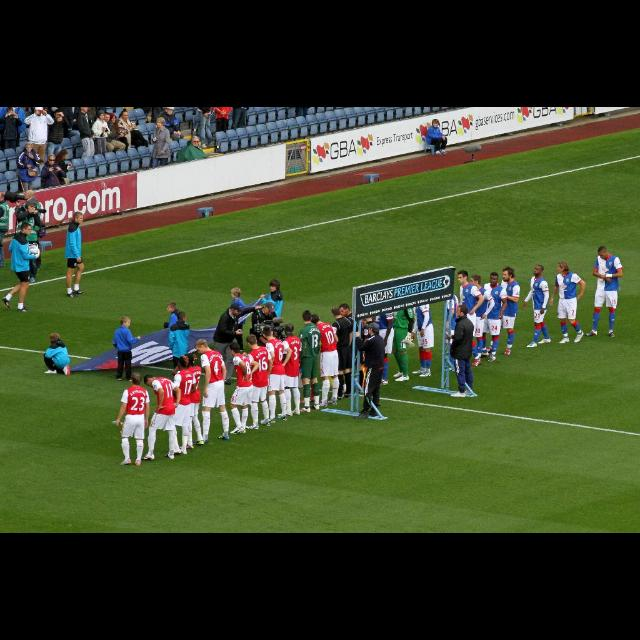Football: (28, 244, 38, 254)
